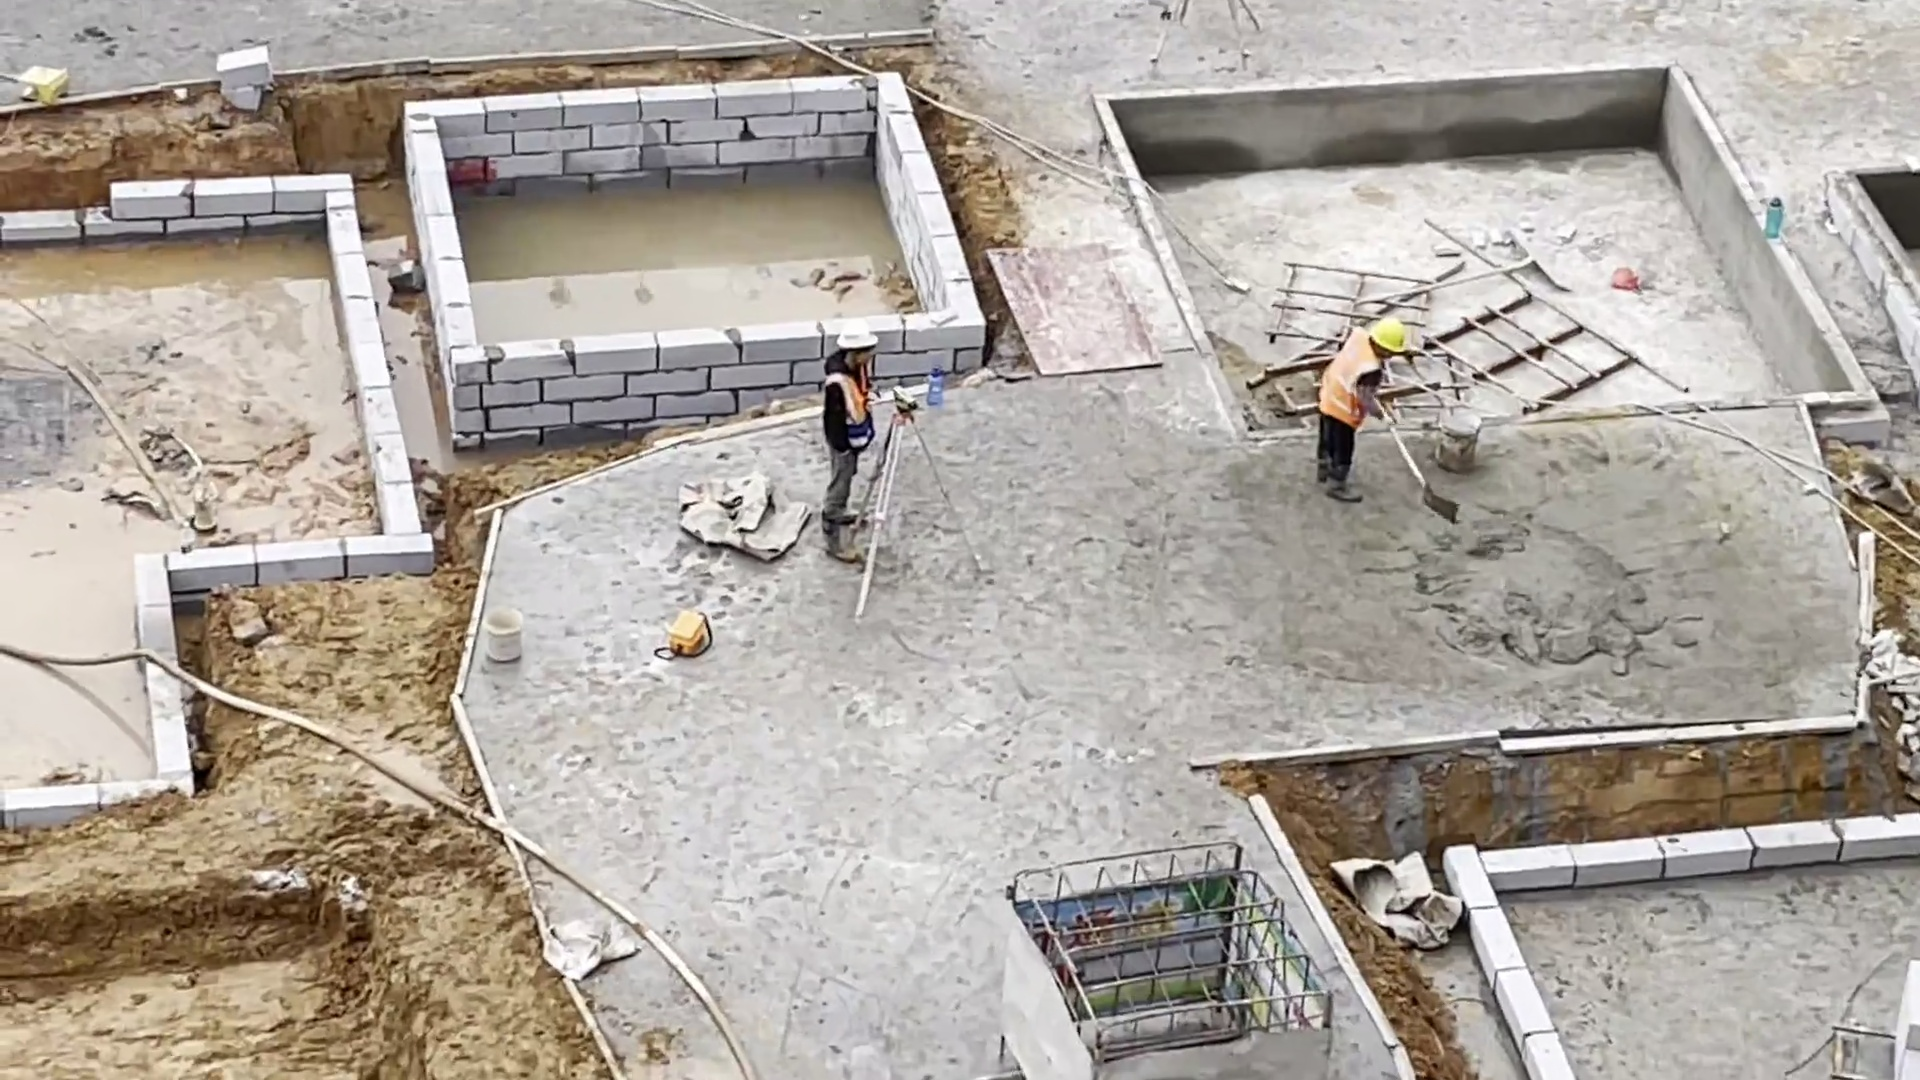helmet: (1368, 309, 1410, 358), (831, 309, 881, 349)
person: (1306, 272, 1411, 499), (806, 304, 889, 577)
vest: (1308, 319, 1378, 441), (818, 360, 882, 441)
